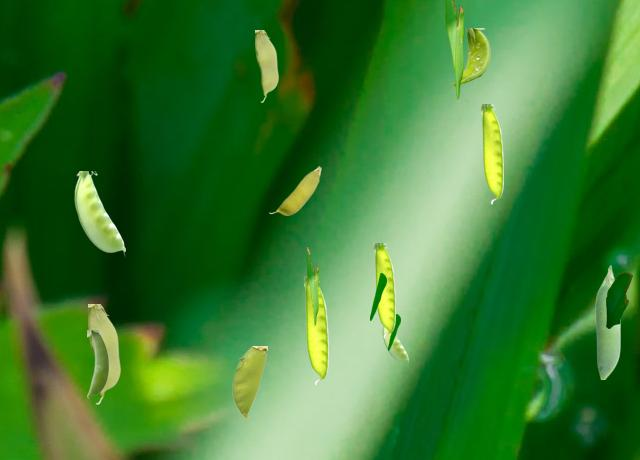pea: (74, 171, 124, 256), (88, 304, 119, 403), (595, 265, 619, 378), (304, 276, 327, 384), (269, 166, 320, 214), (232, 346, 266, 417), (452, 28, 489, 85), (481, 104, 502, 203), (374, 243, 394, 337), (255, 30, 277, 101), (87, 330, 107, 397), (382, 326, 407, 362)
